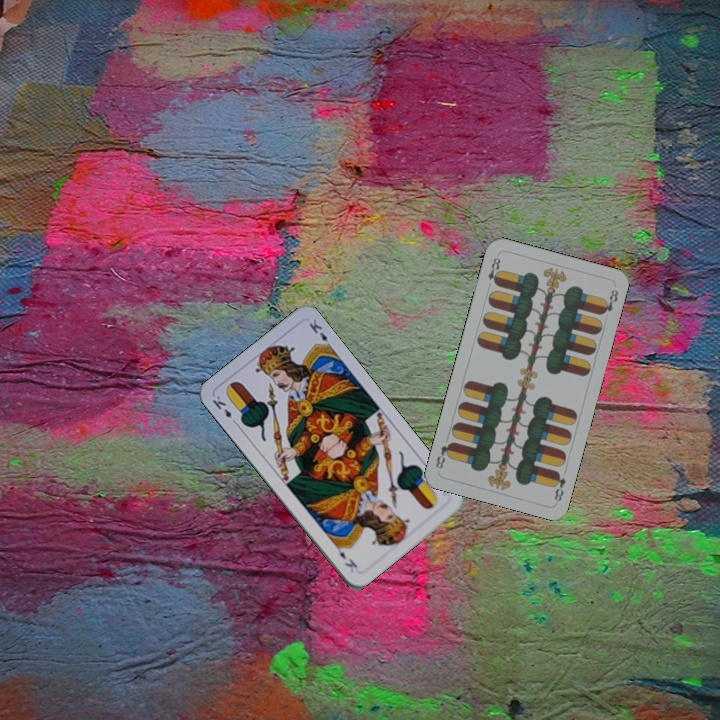E8: (549, 467, 568, 504), (484, 253, 503, 288)
EK: (208, 391, 240, 427)
